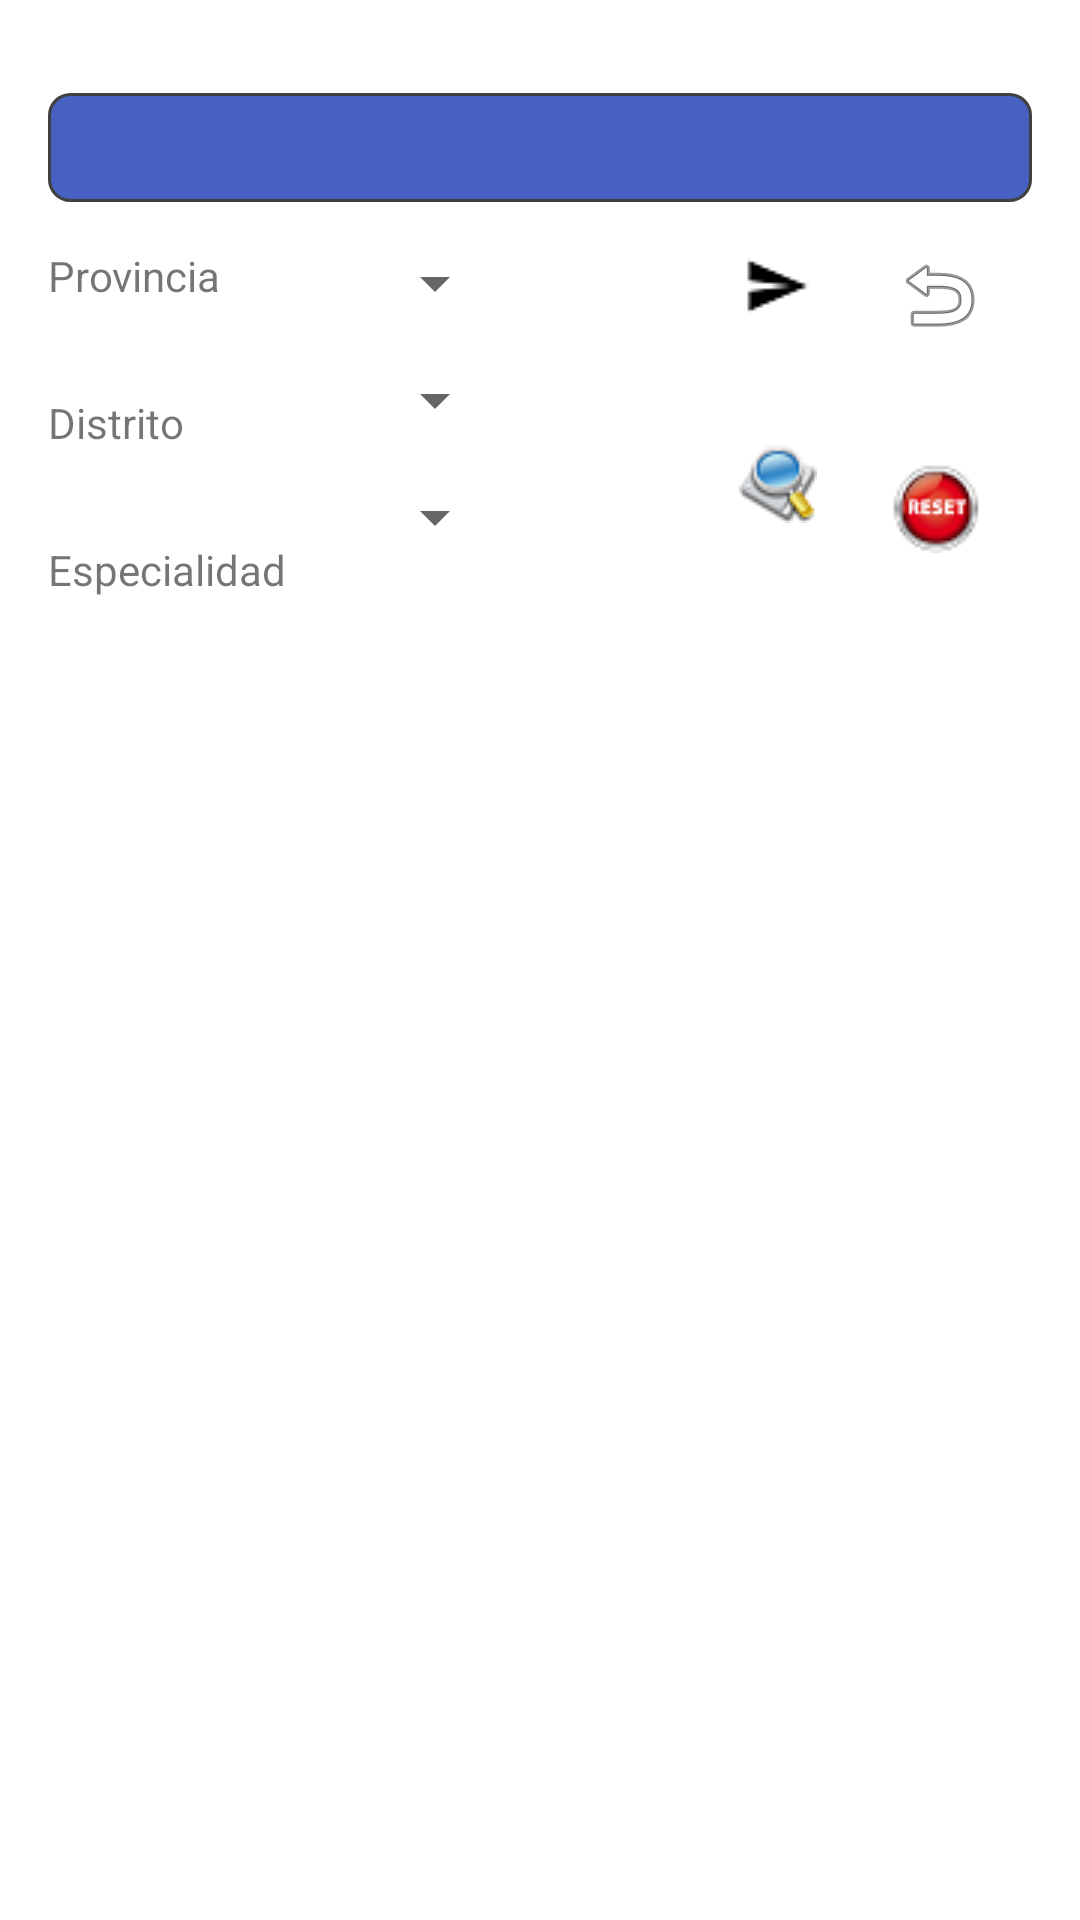

Screen size 1080px×1920px. Icon name, then its center in pixels as point (x, y):
buscar: point (778, 485)
revert: point (940, 295)
siguiente: point (776, 286)
